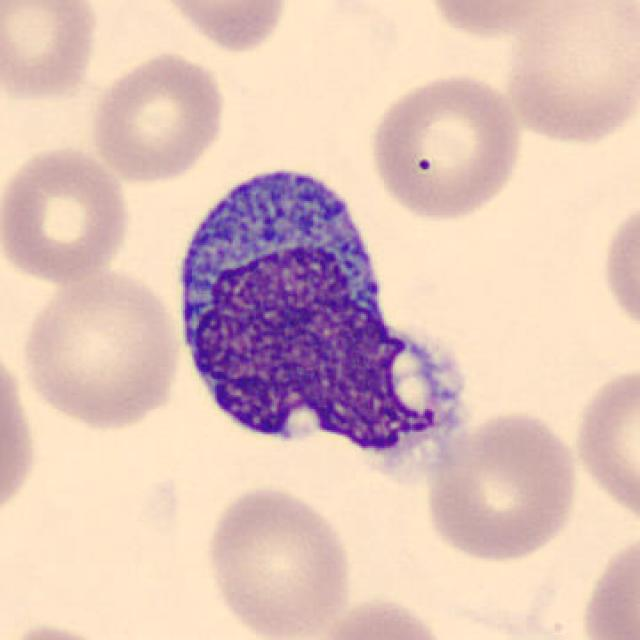Monocyte: (162, 148, 471, 478)
RBC: (16, 264, 187, 434), (418, 406, 583, 564), (364, 68, 526, 225), (199, 481, 357, 640), (498, 0, 638, 150), (0, 141, 135, 286), (87, 48, 229, 185), (569, 358, 640, 531), (0, 0, 103, 106), (0, 337, 41, 532), (151, 0, 293, 55), (305, 590, 455, 640), (576, 525, 640, 640), (597, 190, 640, 346), (414, 0, 576, 41), (2, 617, 135, 640)
